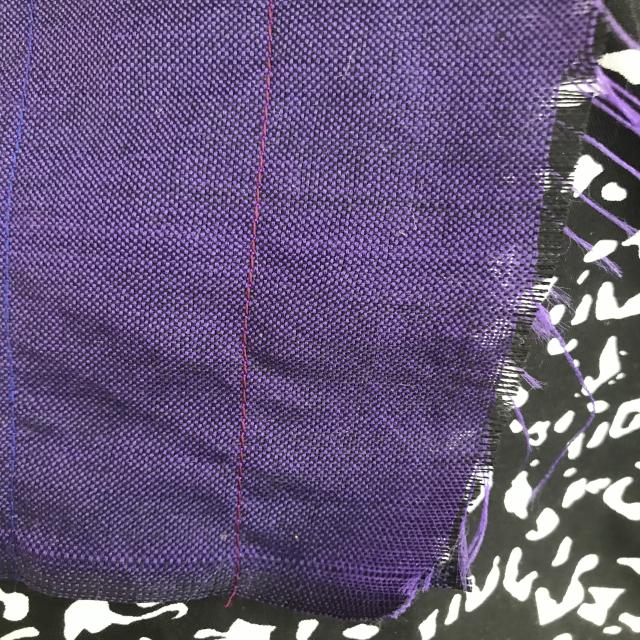good: (226, 233, 256, 454), (248, 70, 287, 206), (225, 476, 257, 546)
